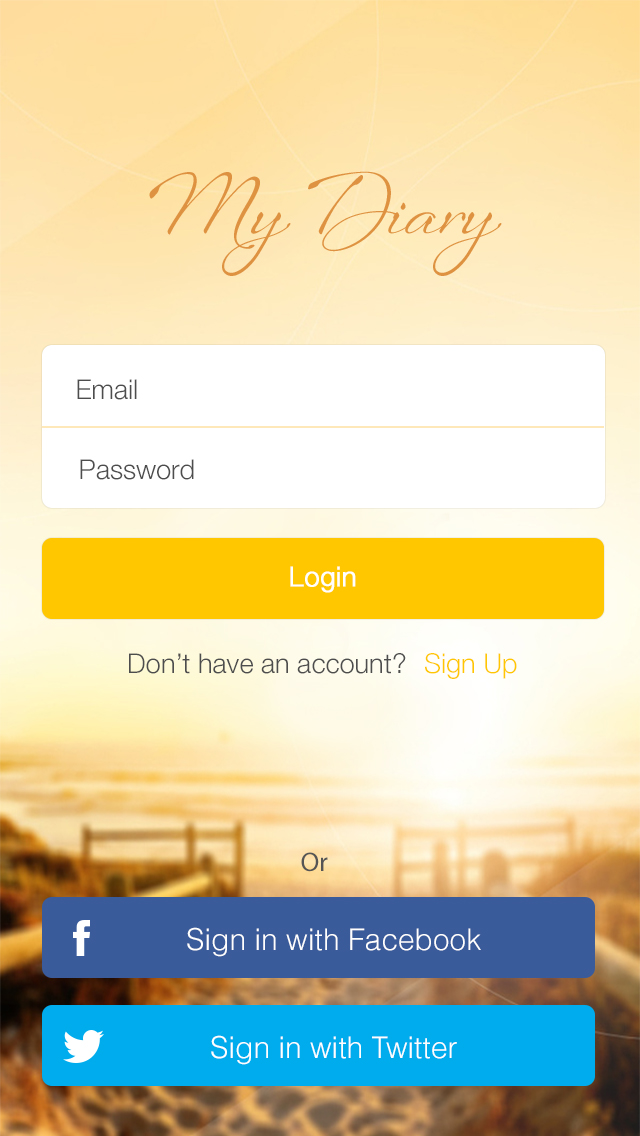BackgroundImage: (1, 1, 640, 1136)
EditText: (42, 345, 606, 427), (42, 428, 605, 509)
Text: (148, 171, 503, 278), (129, 652, 518, 680), (80, 459, 195, 481), (77, 380, 138, 401), (301, 852, 329, 873)
TextButton: (42, 538, 605, 620), (42, 1005, 595, 1086), (43, 897, 595, 978)
